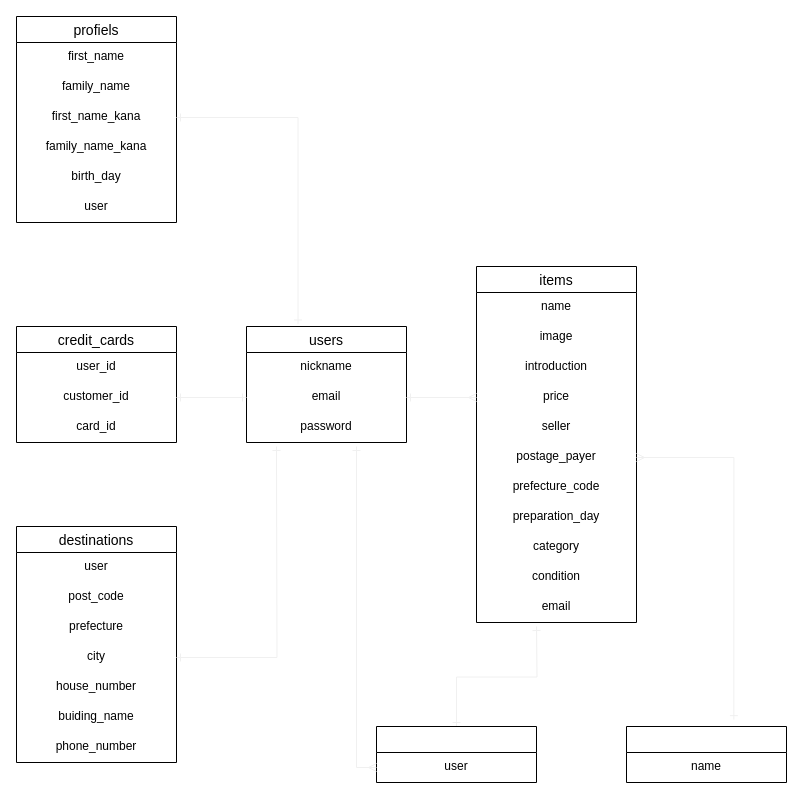
Some shapes in this 803 by 799 pixel diagram are drawn without their labels. The shapes that lost their labels are listed below. From the top down, each one's box as (x1, y1, x2, y2) in pixels, then its label:
(376, 726, 536, 782): buyers
(626, 726, 786, 782): categories
